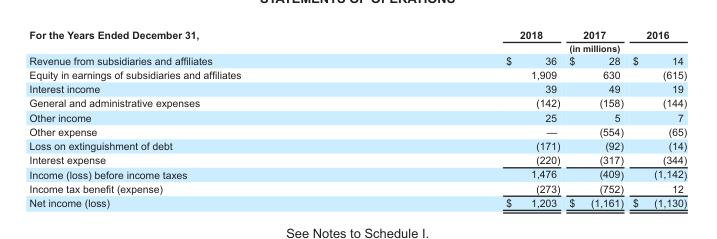table: (28, 28, 686, 208)
table column: (28, 28, 372, 208), (372, 28, 564, 208), (564, 28, 627, 208), (627, 28, 686, 208)
table column header: (28, 28, 686, 53)
table row: (28, 109, 686, 124), (28, 166, 686, 181), (28, 53, 686, 67), (28, 67, 686, 81), (28, 81, 686, 95), (28, 95, 686, 109), (28, 124, 686, 138), (28, 138, 686, 152), (28, 152, 686, 166), (28, 181, 686, 195), (28, 28, 686, 41), (28, 195, 686, 208), (28, 41, 686, 53)
table spanning cell: (28, 28, 372, 53), (372, 41, 686, 53)
